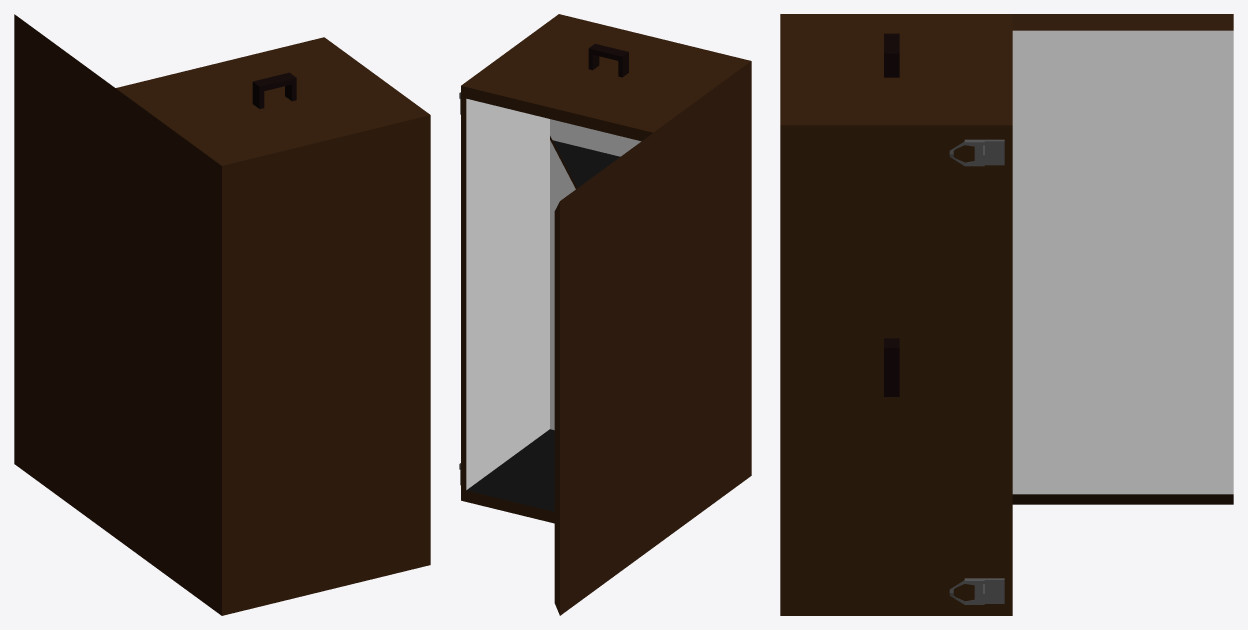
The model's file is Orangenbaum.Koffer.glb.
3 views of the same model, side by side, from view 1: azimuth 30°, elevation 25°; view 2: azimuth 150°, elevation 25°; view 3: azimuth 270°, elevation 25° (orthographic). The views are drawn at different scales.
Parts seen in each view (by area): view 1: Cube.005; view 2: Cube.005; view 3: Cube.005.
Part boxes in pixels (<box>): Cube.005: <box>14,14,430,615</box>; Cube.005: <box>459,14,751,615</box>; Cube.005: <box>780,14,1233,615</box>.
Size of the model in its own units: 4.31 by 8.58 by 6.82.
